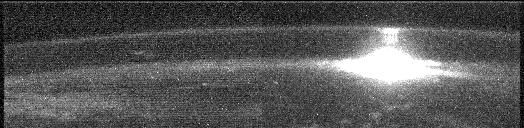positive: (376, 25, 401, 47)
